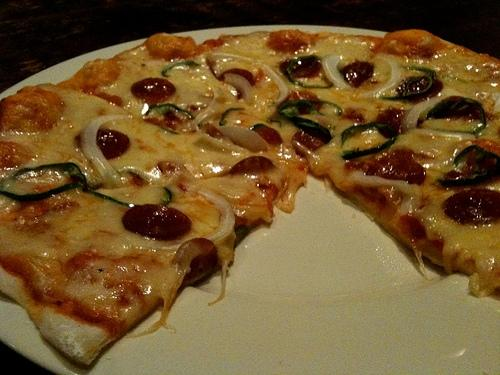onion: (135, 183, 235, 252), (83, 116, 134, 188), (351, 170, 420, 213), (254, 62, 289, 106), (364, 56, 400, 96), (218, 126, 268, 152), (322, 54, 355, 91), (406, 98, 442, 130), (194, 86, 222, 127), (224, 73, 253, 103), (404, 128, 476, 139), (378, 186, 403, 208)
